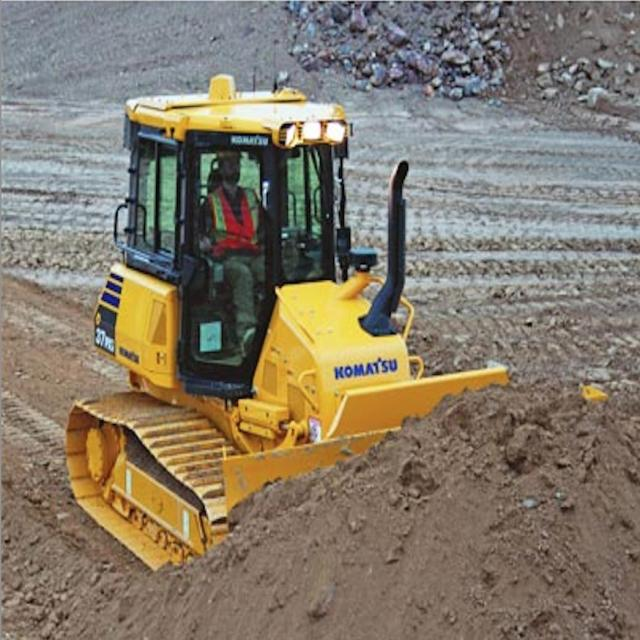buldozerpayloadergrader: (62, 65, 530, 596)
